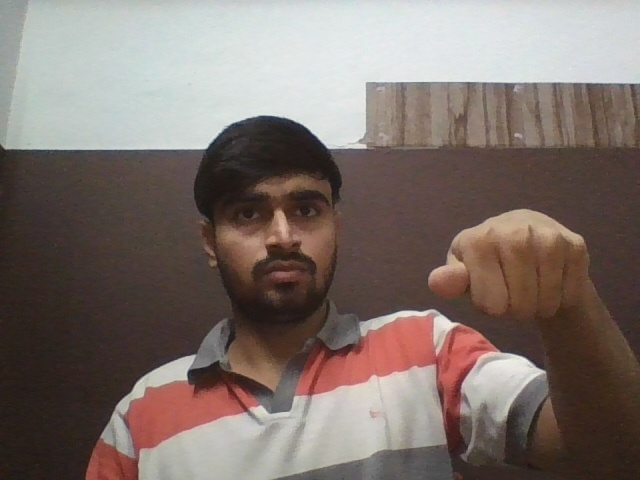Yes: (428, 208, 589, 322)
